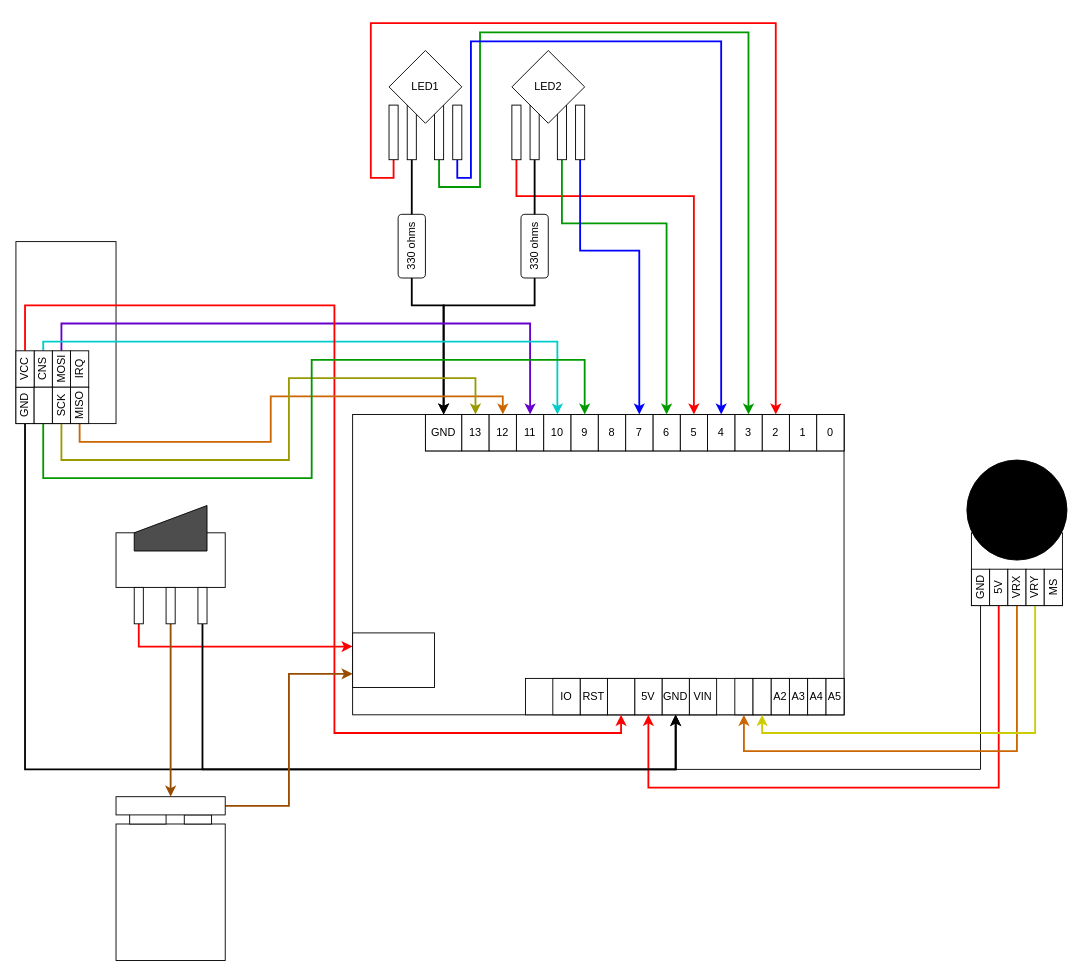
This 1083x976 diagram has some shape labels left out. Here are the shapes that lost their labels. From the top down, the centre of each, then its label:
At [42,405]: "CE".
At [621,696]: "3.3V".
At [743,696]: "A0".
At [761,696]: "A1".
